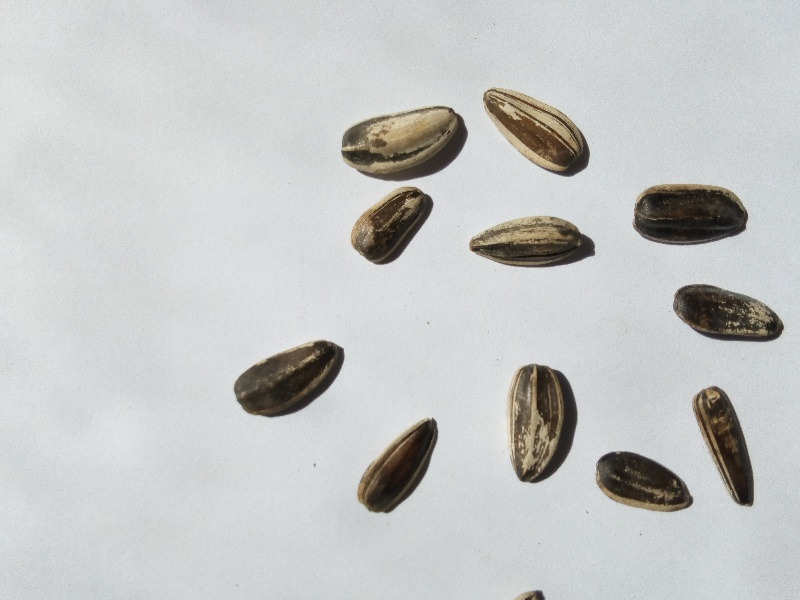girasol: (335, 95, 478, 184), (341, 403, 447, 522), (217, 331, 357, 421), (478, 79, 596, 185), (504, 355, 583, 500), (462, 205, 605, 284), (689, 379, 772, 512), (625, 177, 749, 255), (590, 443, 698, 532), (662, 277, 792, 349), (346, 179, 437, 273)
